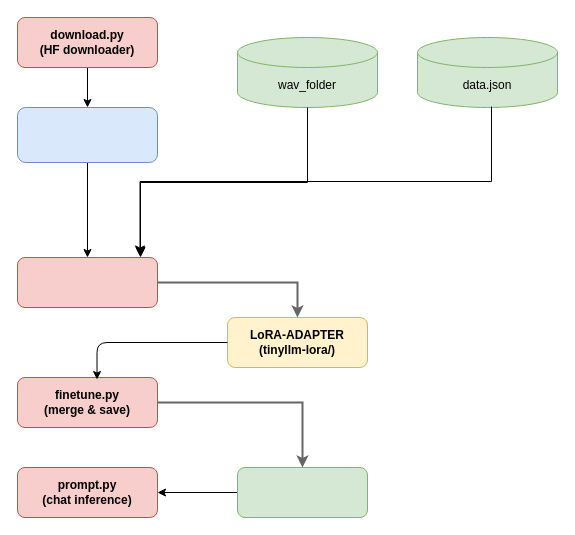
This 575x535 diagram has some shape labels left out. Each missing label, with the centre of its shape:
"BASE-MODEL (tinyllm/)" goes at pixel 87 134.
"MERGED-MODEL (tinyllm-merged/)" goes at pixel 302 492.
"model_train.py (LoRA fine-tune)" goes at pixel 87 282.
